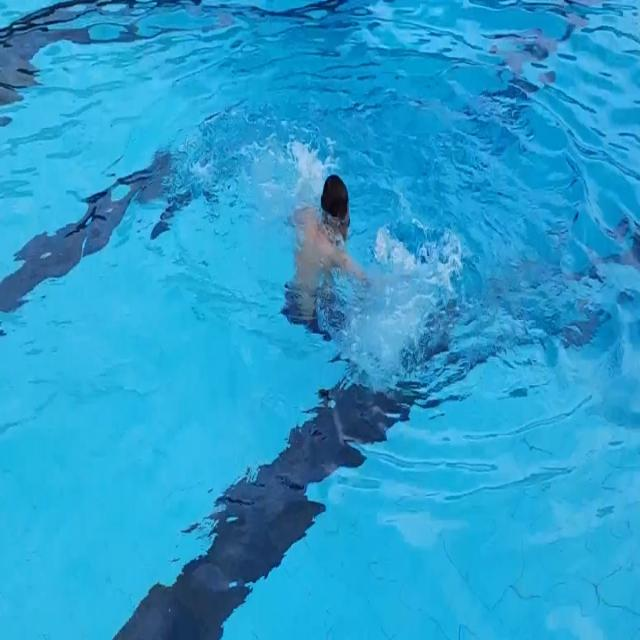Drowning: (284, 170, 371, 341)
